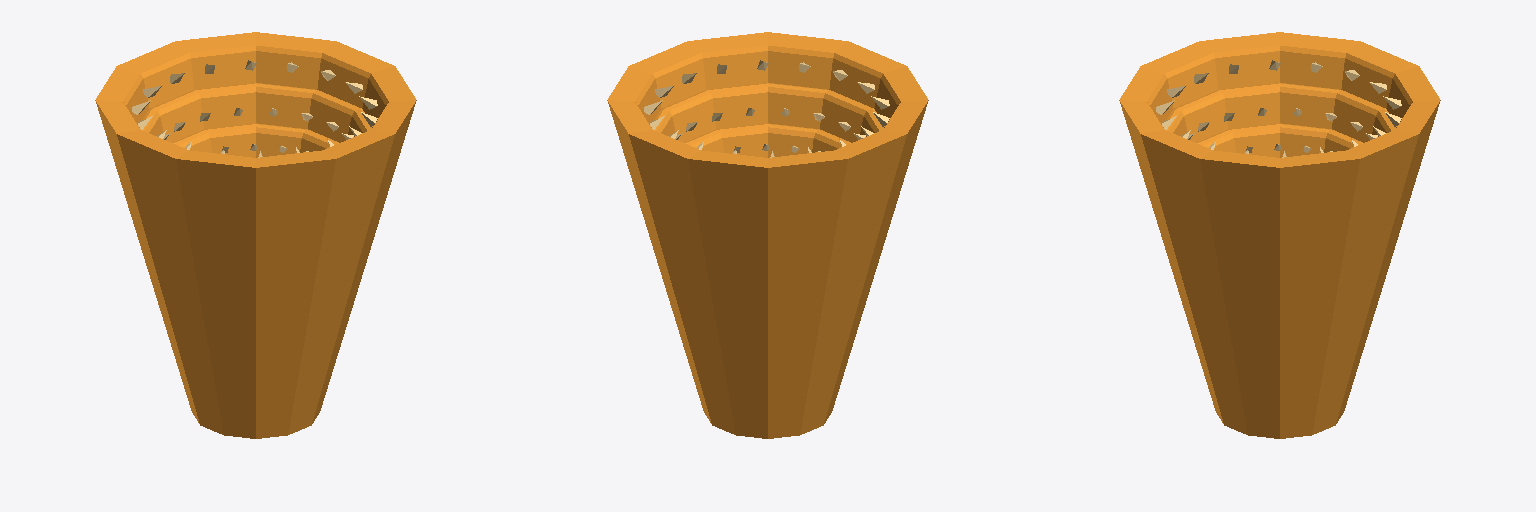
The model's file is Queen.obj.
3 renders of one model, left to right at view 1: azimuth 30°, elevation 25°; view 2: azimuth 150°, elevation 25°; view 3: azimuth 270°, elevation 25°, orthographic.
Visible parts, largest first — view 1: MommaPit; view 2: MommaPit; view 3: MommaPit.
Part boxes in pixels (x1,y1,x2,y2): MommaPit: (95, 32, 416, 438); MommaPit: (607, 32, 928, 438); MommaPit: (1119, 32, 1440, 438).
Bounding box in the file's own units: 6.23 × 6.67 × 6.23.